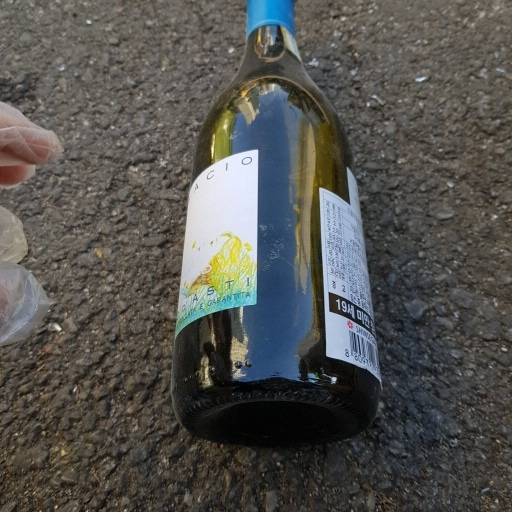Glass_2: (170, 1, 387, 448)
